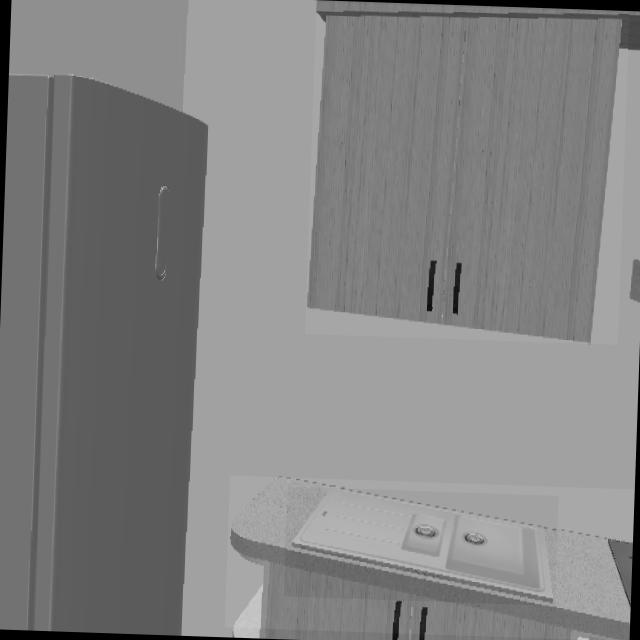cabinet: (305, 6, 629, 343)
countertop: (228, 477, 630, 640)
fridge: (0, 74, 209, 634)
sink: (285, 487, 554, 605)
